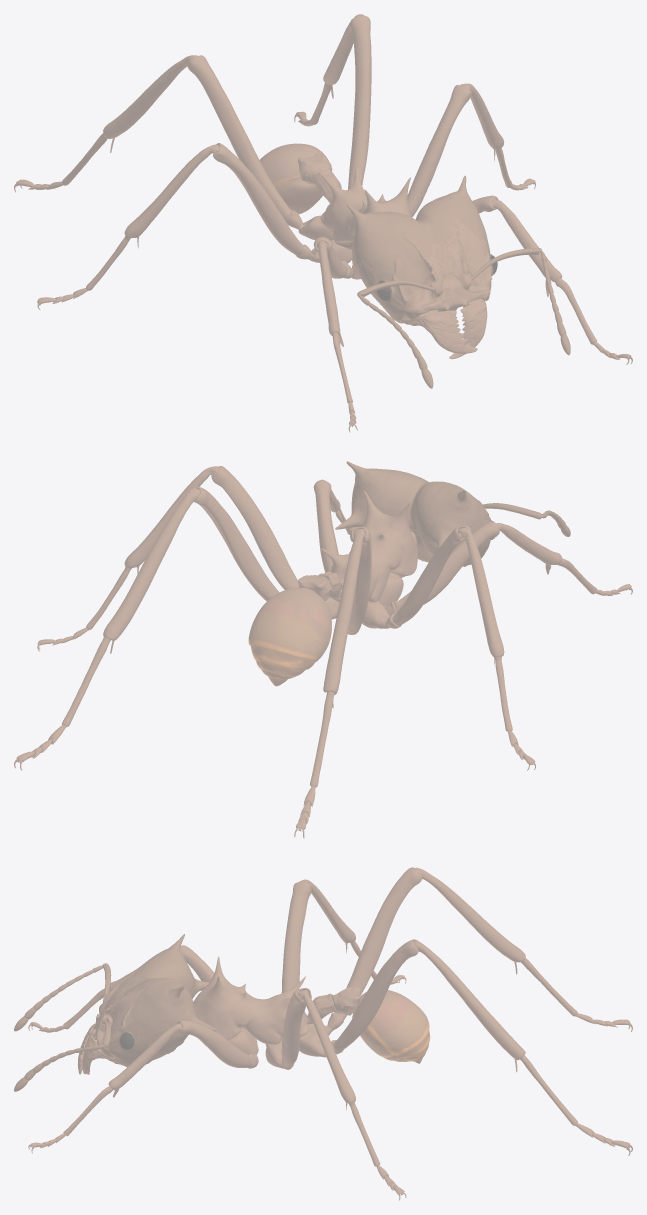
The model's file is leafcutter.glb.
3 views of the same model, one above another, from view 1: azimuth 30°, elevation 25°; view 2: azimuth 150°, elevation 25°; view 3: azimuth 270°, elevation 25° (orthographic). The views are drawn at different scales.
Visible parts, largest first — view 1: node_id277_Material_113_0, node_id268_Material_107_0, node_id274_Material_111_0, node_id271_Material_109_0, node_id265_Material_105_0; view 2: node_id268_Material_107_0, node_id265_Material_105_0, node_id271_Material_109_0, node_id274_Material_111_0, node_id277_Material_113_0; view 3: node_id268_Material_107_0, node_id274_Material_111_0, node_id271_Material_109_0, node_id277_Material_113_0, node_id265_Material_105_0.
Part boxes in pixels (x1,y1,x2,y2): node_id277_Material_113_0: (335,175,570,388); node_id268_Material_107_0: (16,14,619,430); node_id274_Material_111_0: (39,15,618,432); node_id271_Material_109_0: (14,55,632,364); node_id265_Material_105_0: (37,15,460,431); node_id268_Material_107_0: (14,466,631,836); node_id265_Material_105_0: (16,486,632,770); node_id271_Material_109_0: (37,466,417,838); node_id274_Material_111_0: (14,488,631,765); node_id277_Material_113_0: (335,461,570,566); node_id268_Material_107_0: (28,867,632,1190); node_id274_Material_111_0: (32,881,630,1150); node_id271_Material_109_0: (28,867,632,1200); node_id277_Material_113_0: (14,934,217,1091); node_id265_Material_105_0: (31,880,632,1151).
Bounding box in the file's own units: 0.00399 × 0.0016 × 0.00476.
Materials: 5 (5 with a texture image).
